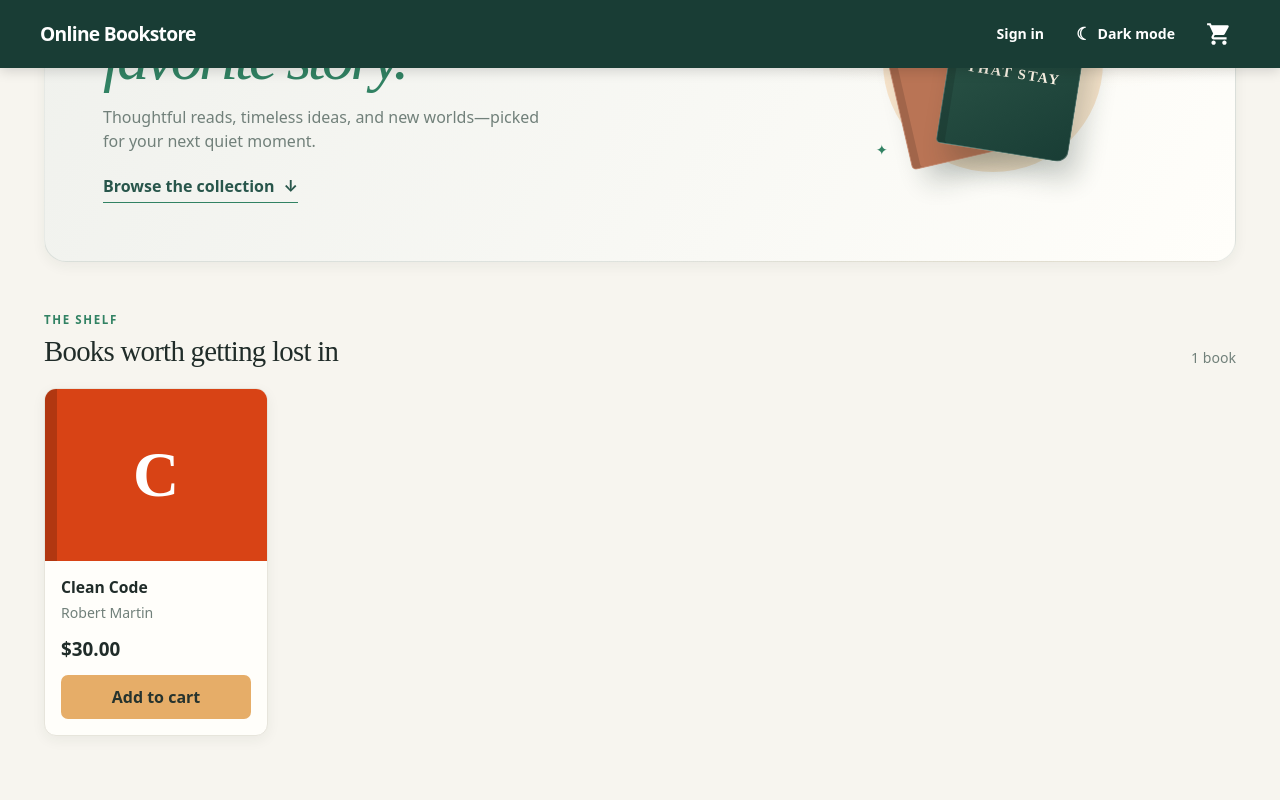
Test: App (logged out) › sends the user to the login page when adding without being logged in
This screenshot has width=1280, height=800.
(page scrolled)
Click the button with aria-label "Add Clean Code to cart".
click(156, 698)  # box top-left (61, 676), bottom-right (251, 720)
(page scrolled)
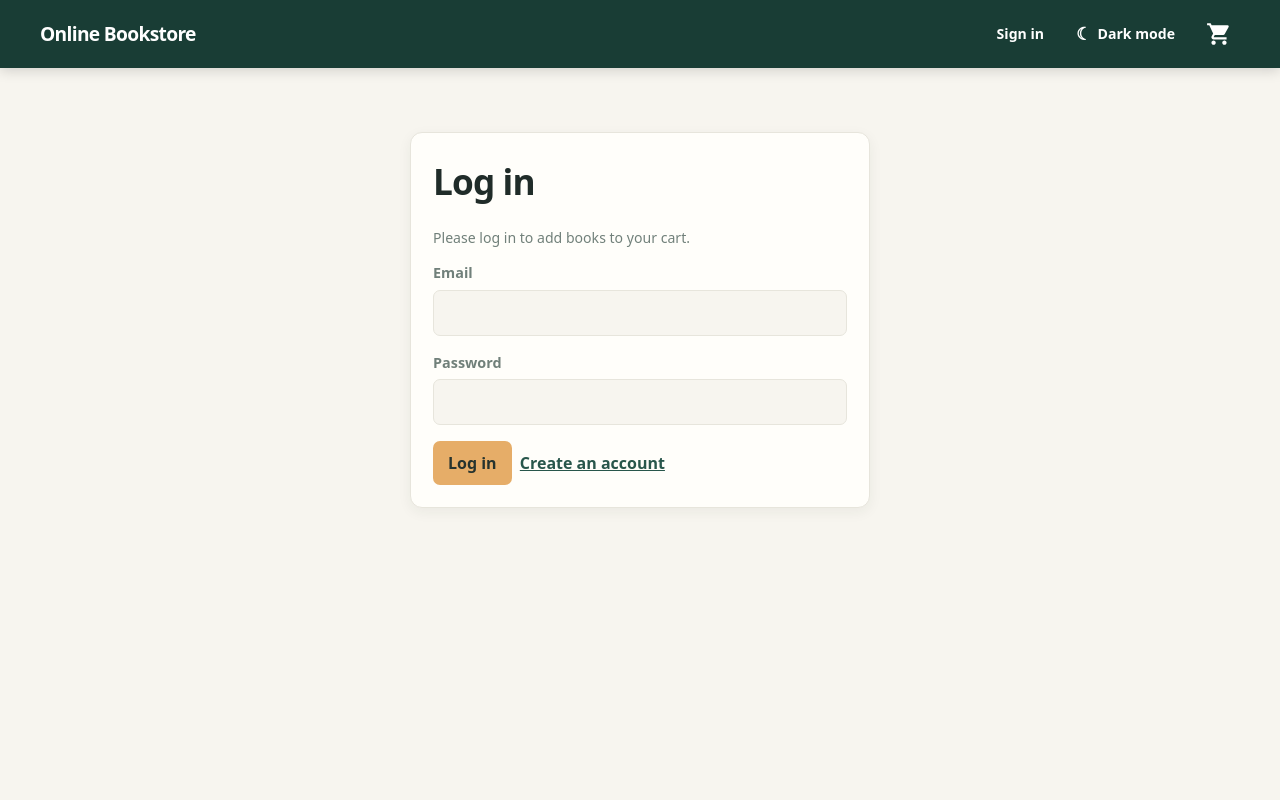
Expected: the heading "Log in" is shown, top-left (433, 157), bottom-right (535, 205)
Expected: the text "Please log in to add books to your cart." is shown, top-left (433, 228), bottom-right (690, 247)
